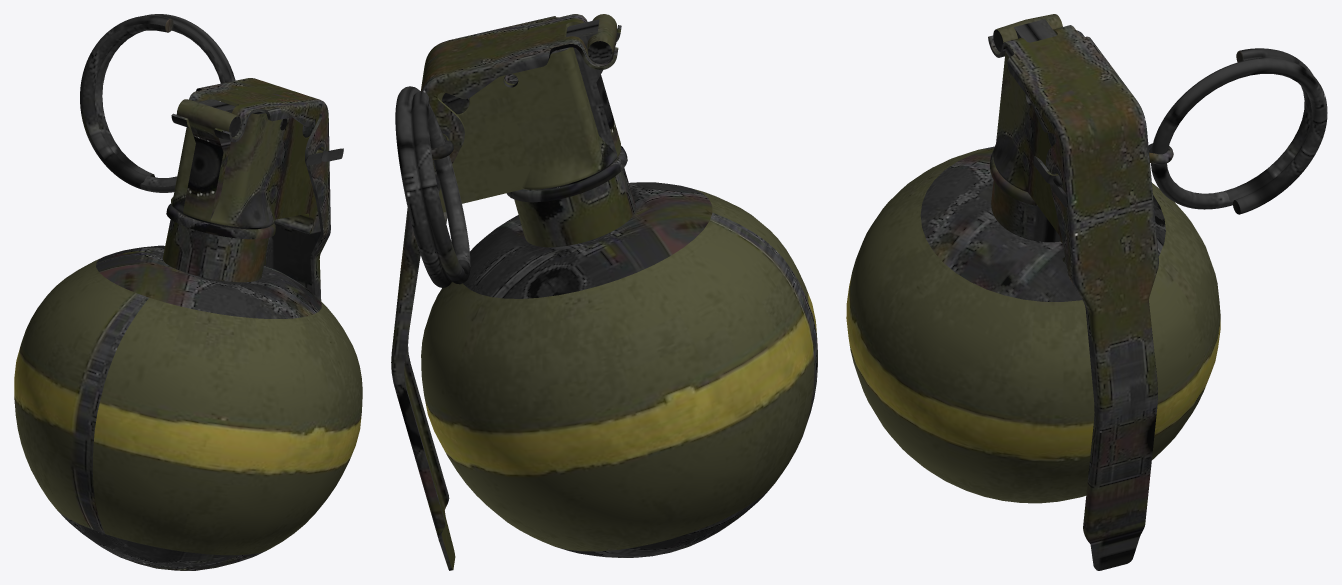
Rendered from p_hegrenade.glb.
The picture shows the model from 3 angles, left to right: view 1: azimuth 30°, elevation 25°; view 2: azimuth 150°, elevation 25°; view 3: azimuth 270°, elevation 25°; orthographic projection. The views are drawn at different scales.
Parts seen in each view (by area): view 1: p_hegrenade; view 2: p_hegrenade; view 3: p_hegrenade.
Boxes of the visible parts, bbox=[...] form: p_hegrenade: bbox=[14, 14, 362, 570]; p_hegrenade: bbox=[391, 14, 817, 570]; p_hegrenade: bbox=[846, 14, 1327, 570].
Bounding box in the file's own units: 0.11 × 0.1525 × 0.1331.
Materials: 1 (1 with a texture image).
